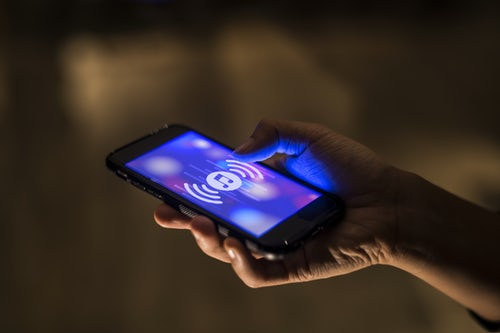phone: (105, 119, 348, 258)
